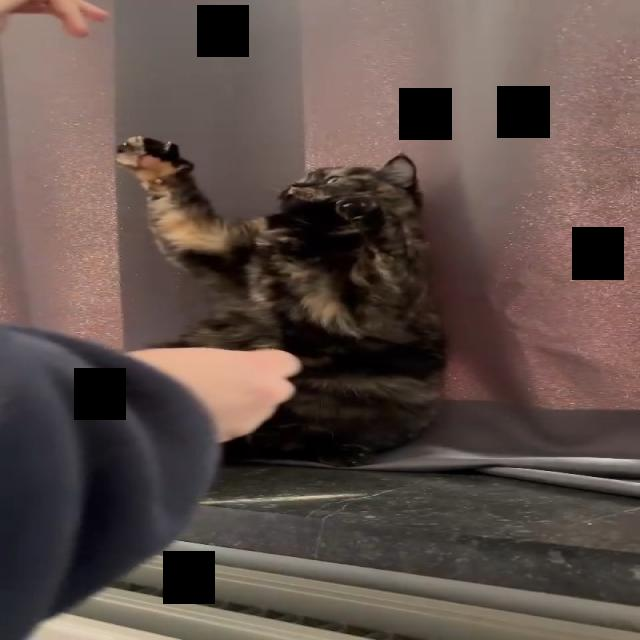authorized: (115, 135, 448, 468)
